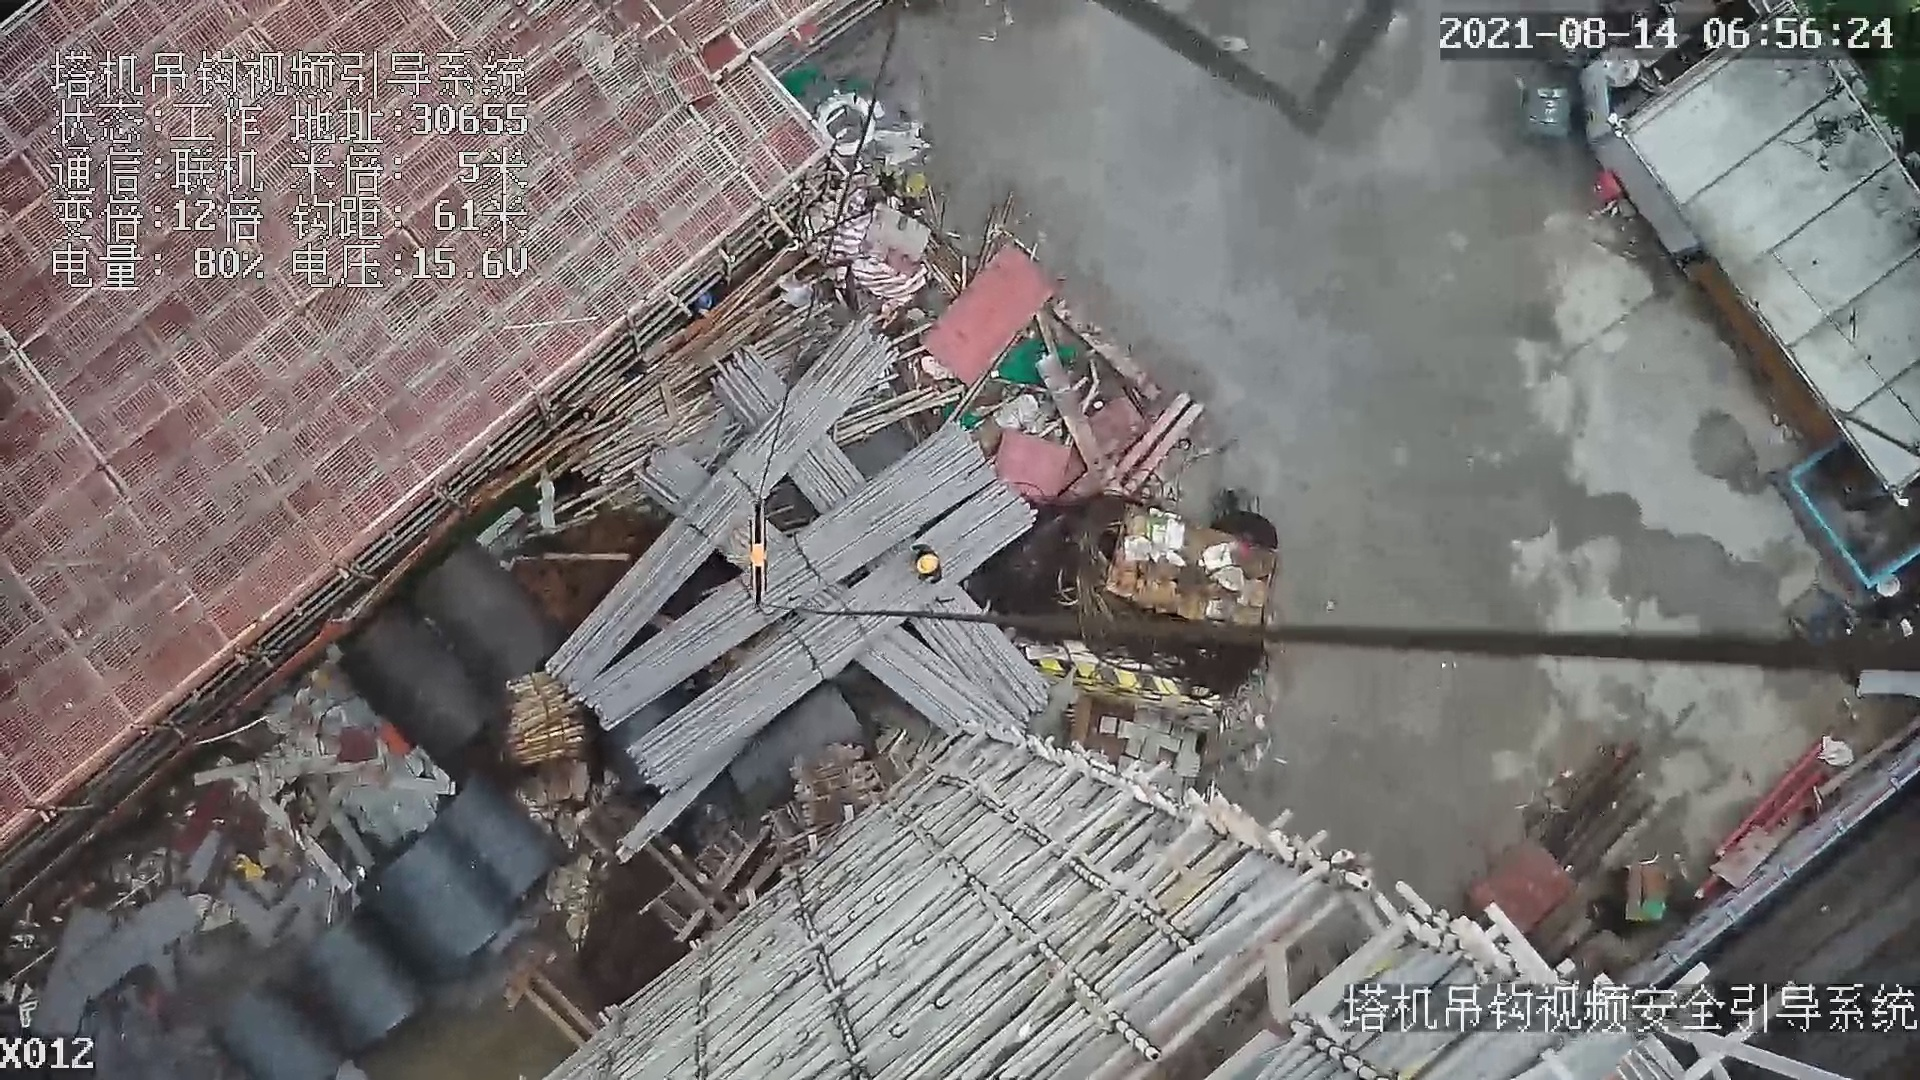helmet: (916, 555, 938, 573)
hook: (740, 499, 779, 606)
person: (906, 540, 950, 581)
rebar: (576, 421, 997, 732), (546, 319, 900, 689), (625, 483, 1038, 795), (906, 587, 1052, 722), (855, 627, 1025, 742)
wood: (510, 692, 584, 766)
